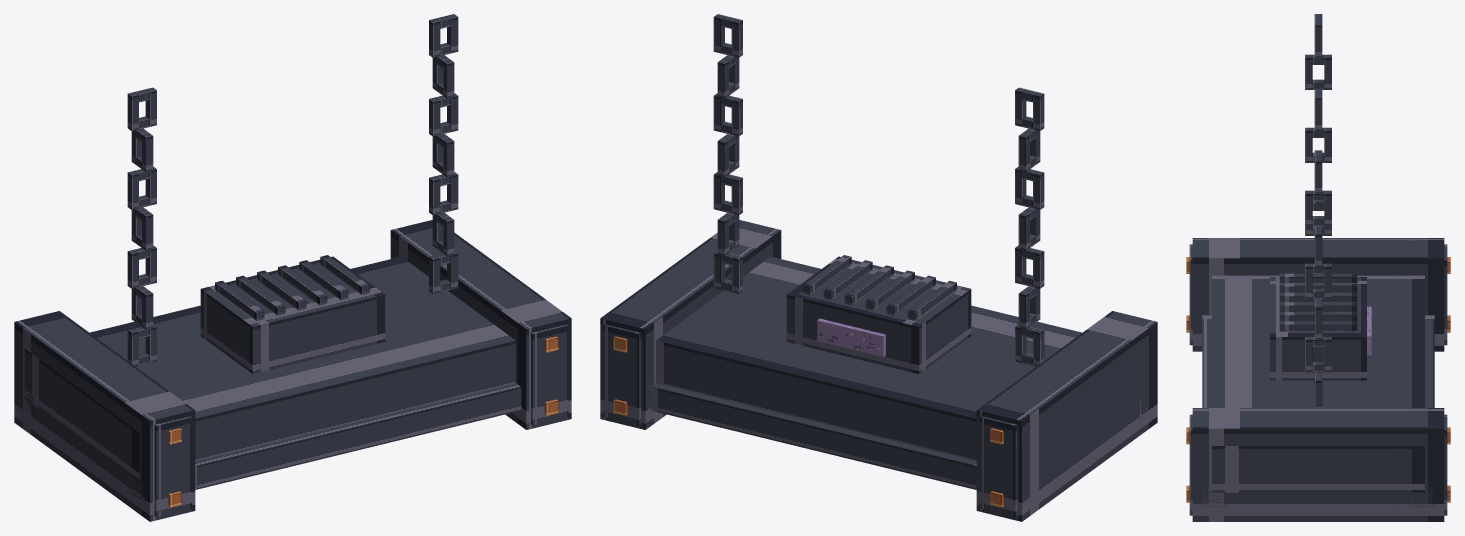
File: bulb_lamp.obj
The picture shows the model from 3 angles, left to right: view 1: azimuth 30°, elevation 25°; view 2: azimuth 150°, elevation 25°; view 3: azimuth 270°, elevation 25°; orthographic projection. The views are drawn at different scales.
Visible parts, largest first — view 1: model; view 2: model; view 3: model.
Part boxes in pixels (bbox=[...]): model: bbox=[14, 14, 571, 521]; model: bbox=[600, 14, 1157, 521]; model: bbox=[1186, 14, 1450, 521].
Size of the model in its own units: 0.875 by 0.725 by 0.5125.
